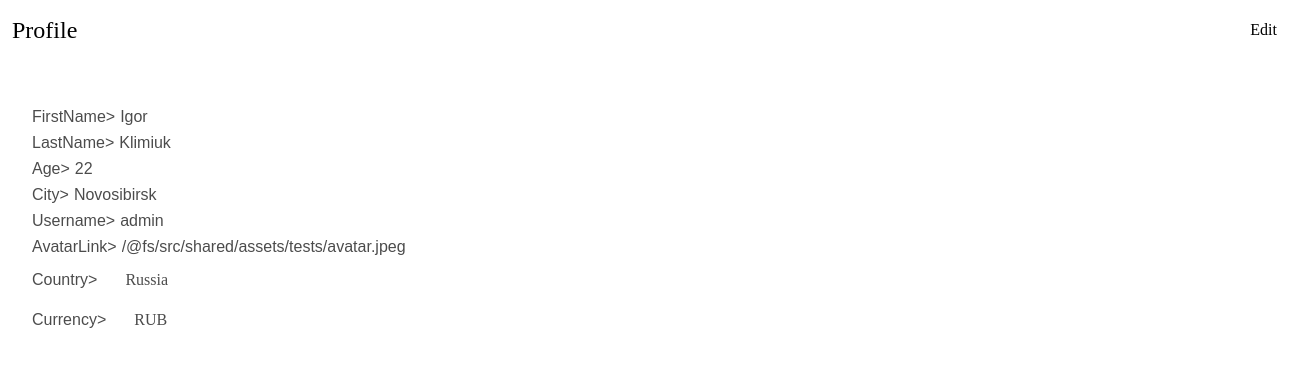
EditableProfile › Edit button logic correctness
This screenshot has width=1304, height=379.
What coordinates should you click on to do the following:
click the button "Edit"
I would click on:
 (1264, 30)
Its box is [1235,12,1292,48].
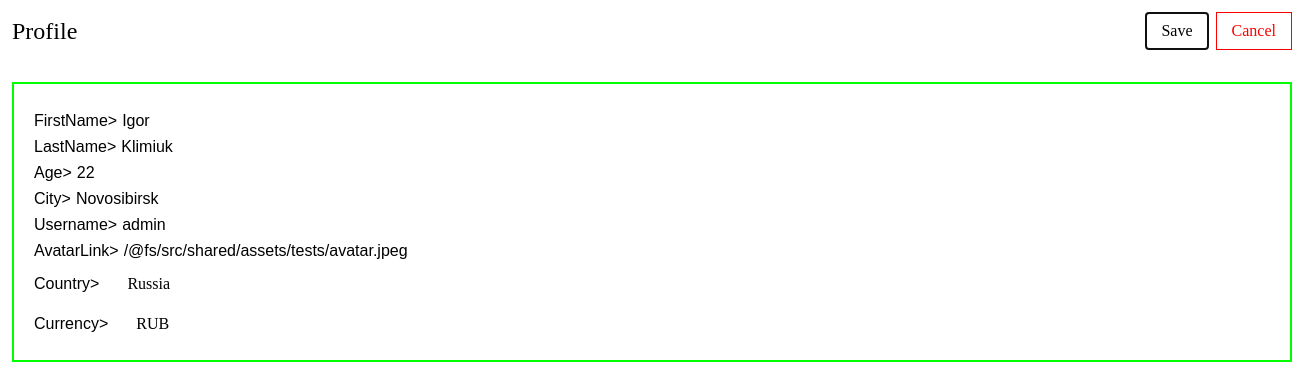
Expected: the button "Cancel" is shown, [1216,12,1292,50]
